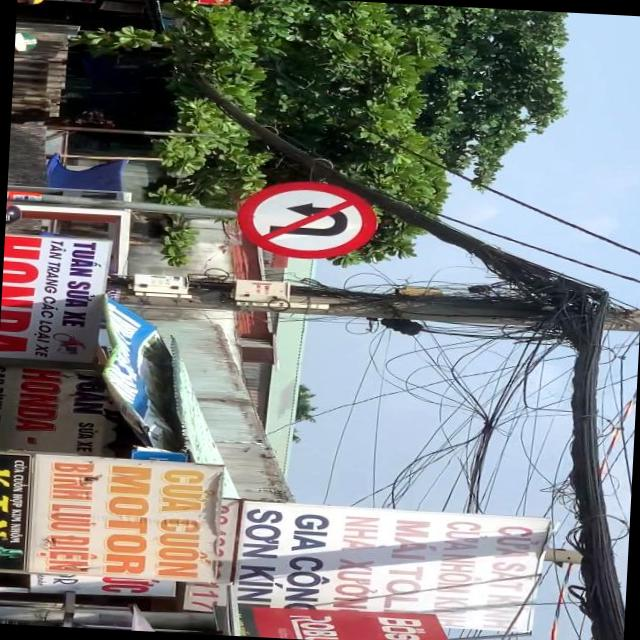P-124a1: (232, 178, 376, 262)
